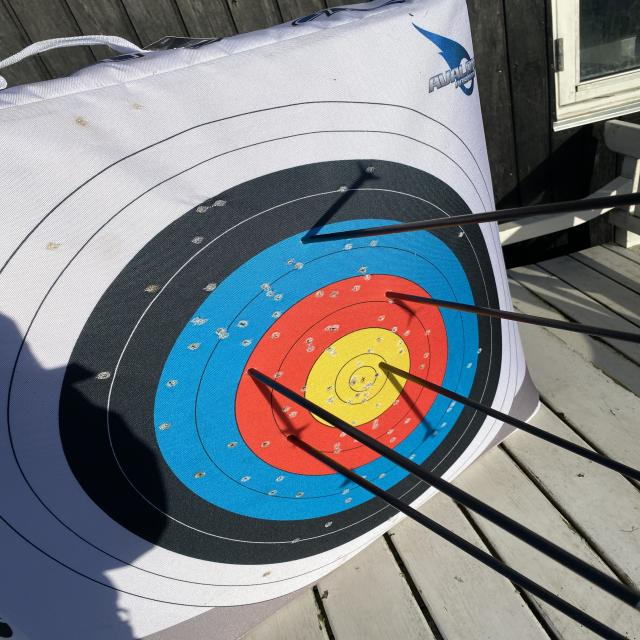Arrow_Blue: (280, 226, 342, 256)
Arrow_Red: (237, 351, 293, 393), (372, 281, 426, 318), (271, 428, 323, 459)
Arrow_Yellow: (358, 350, 409, 390)
